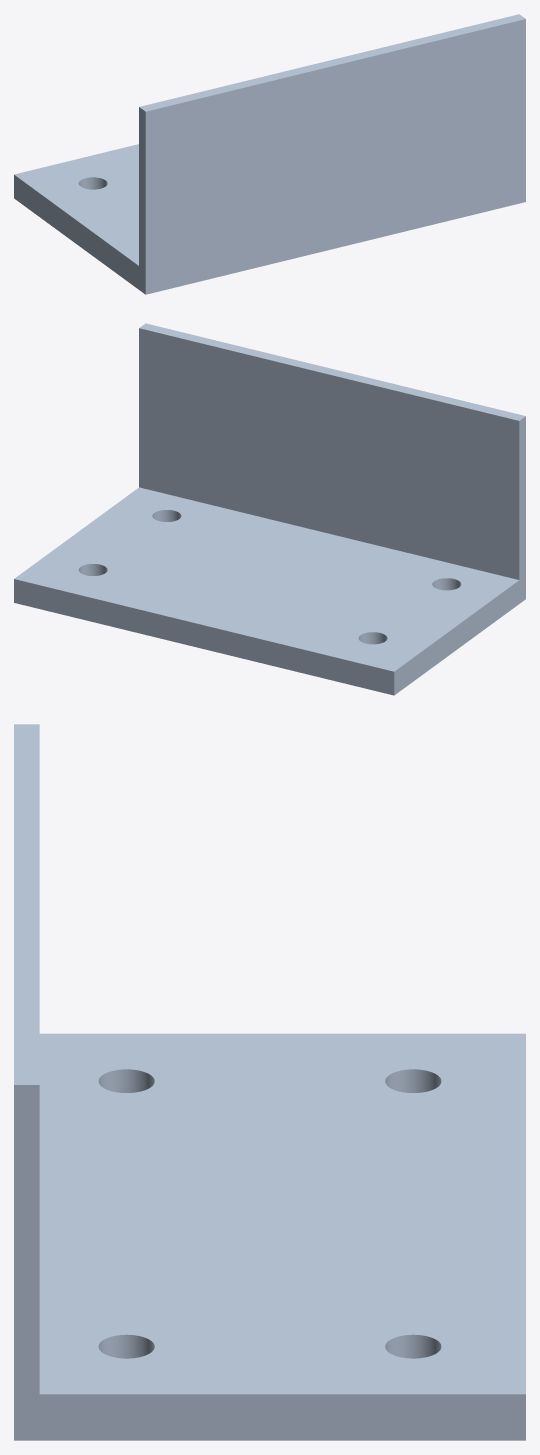
The picture shows the model from 3 angles, top to bottom: view 1: azimuth 30°, elevation 25°; view 2: azimuth 150°, elevation 25°; view 3: azimuth 270°, elevation 25°; orthographic projection. The views are drawn at different scales.
Visible parts, largest first — view 1: part; view 2: part; view 3: part.
Part boxes in pixels (x1,y1,x2,y2): part: (14, 14, 525, 294); part: (14, 323, 525, 695); part: (14, 724, 525, 1440).
Size of the model in its own units: 100 by 46 by 60.
